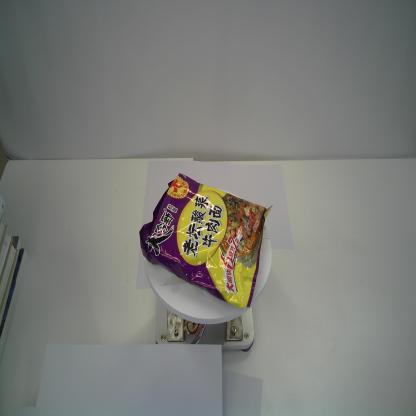Instant Noodles: (139, 171, 275, 309)
